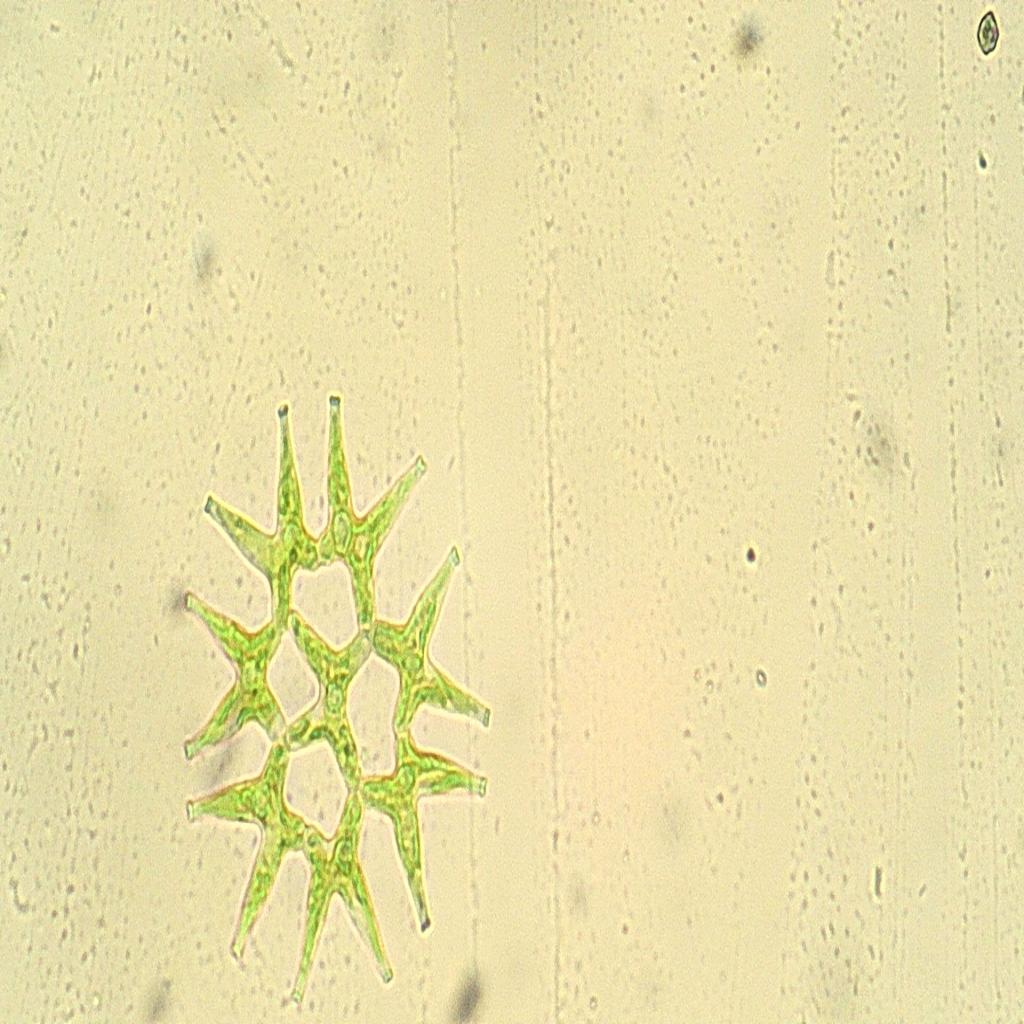Pediastrum_1T: (164, 377, 508, 1011)
